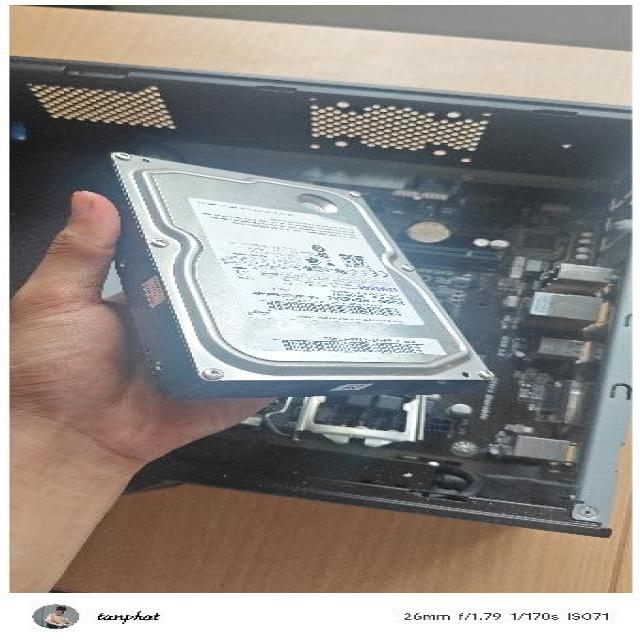DISK: (54, 144, 507, 404)
